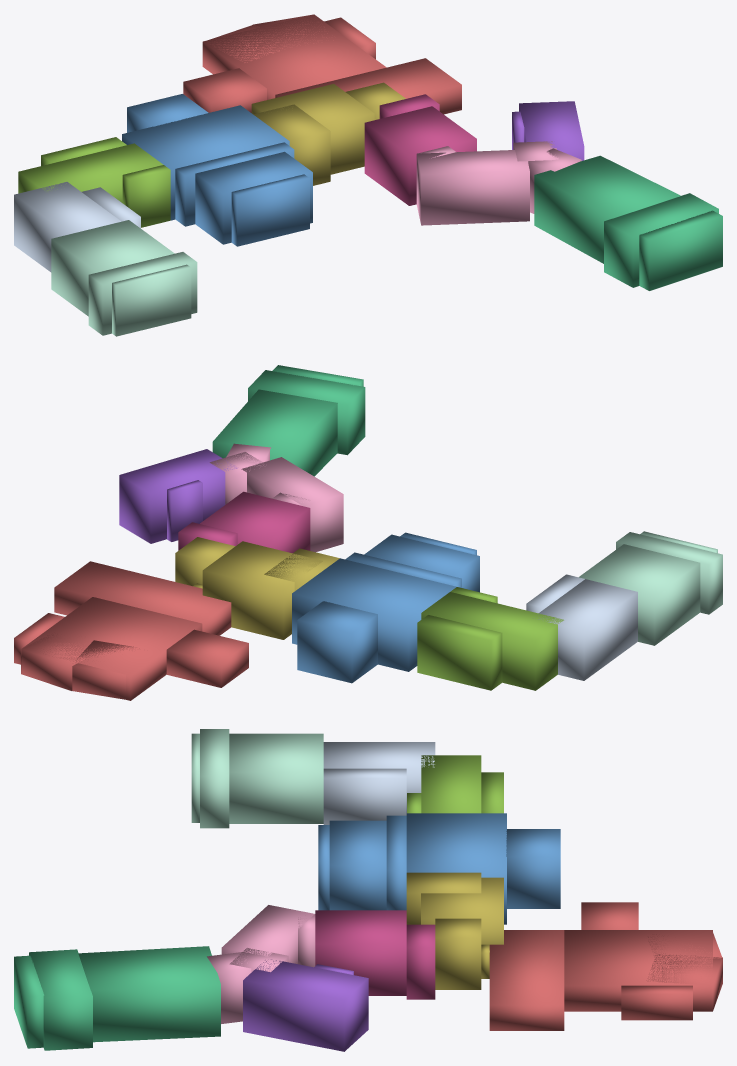
3 renders of one model, top to bottom at view 1: azimuth 30°, elevation 25°; view 2: azimuth 150°, elevation 25°; view 3: azimuth 270°, elevation 25°, orthographic. The views are drawn at different scales.
Parts seen in each view (by area): view 1: Box019, Line002, Box027, Box002, Box025, Box010, Box034, Box008, Box007, Box013, Box012, Box015 (+18 smaller); view 2: Box019, Box002, Line002, Box015, Box008, Box010, Box018, Box004, Box029, Box001, Box006, Box027 (+17 smaller); view 3: Line002, Box019, Box029, Box010, Box018, Box025, Box002, Box007, Box033, Box009, Box001, Box004 (+18 smaller).
Part boxes in pixels (<box>): Box019: <box>202,14,386,99</box>; Line002: <box>534,155,680,263</box>; Box027: <box>416,150,529,225</box>; Box002: <box>122,105,289,220</box>; Box025: <box>364,106,476,205</box>; Box010: <box>51,220,174,316</box>; Box034: <box>639,210,722,290</box>; Box008: <box>14,182,121,272</box>; Box007: <box>195,151,312,244</box>; Box013: <box>231,174,309,246</box>; Box012: <box>112,264,191,336</box>; Box015: <box>251,84,374,174</box>; Box019: <box>21,597,202,700</box>; Box002: <box>292,558,456,671</box>; Line002: <box>212,389,337,476</box>; Box015: <box>202,541,322,639</box>; Box008: <box>533,579,637,680</box>; Box010: <box>579,544,700,645</box>; Box018: <box>54,561,231,635</box>; Box004: <box>421,592,563,690</box>; Box029: <box>119,449,237,543</box>; Box001: <box>297,601,377,683</box>; Box006: <box>417,615,502,690</box>; Box027: <box>241,457,343,552</box>; Line002: <box>78,946,220,1042</box>; Box019: <box>564,930,712,1011</box>; Box029: <box>243,959,368,1051</box>; Box010: <box>229,733,323,823</box>; Box018: <box>489,930,564,1030</box>; Box025: <box>315,910,406,995</box>; Box002: <box>406,813,506,924</box>; Box007: <box>329,820,386,910</box>; Box033: <box>29,949,92,1050</box>; Box009: <box>323,768,406,824</box>; Box001: <box>506,829,560,908</box>; Box004: <box>421,755,481,813</box>.
Bounding box in the file's own units: 8817 × 827 × 9752.
